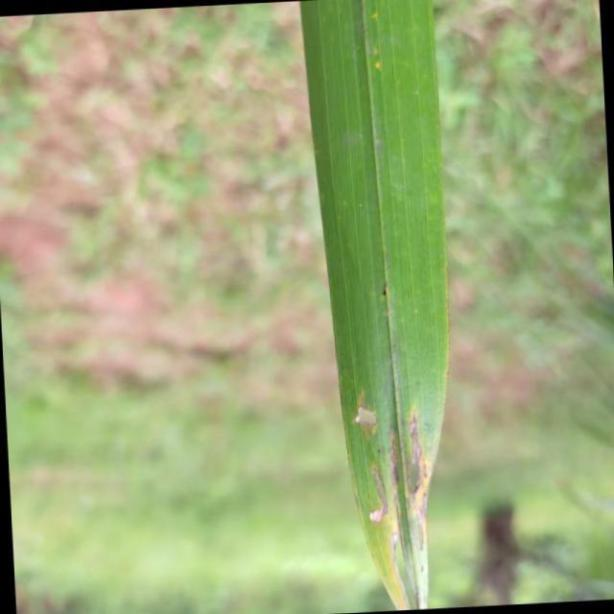Kalium: (298, 0, 452, 614)
